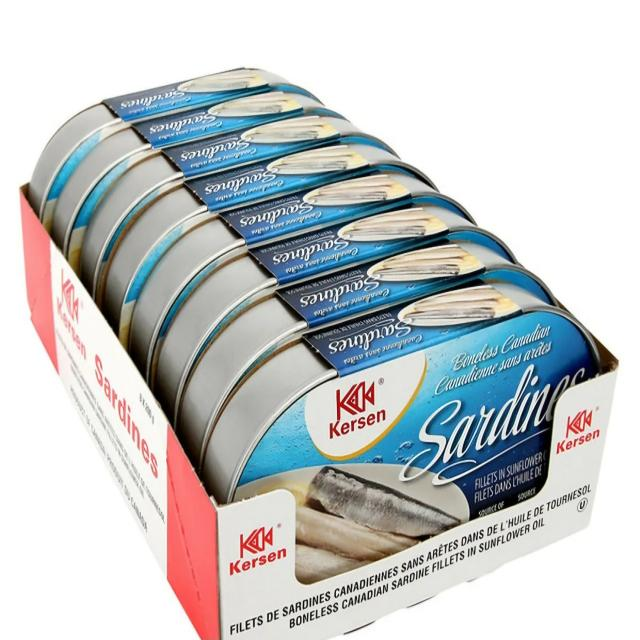cosmotic: (405, 259, 520, 553)
food-supliment: (64, 108, 382, 525), (58, 362, 62, 363)
